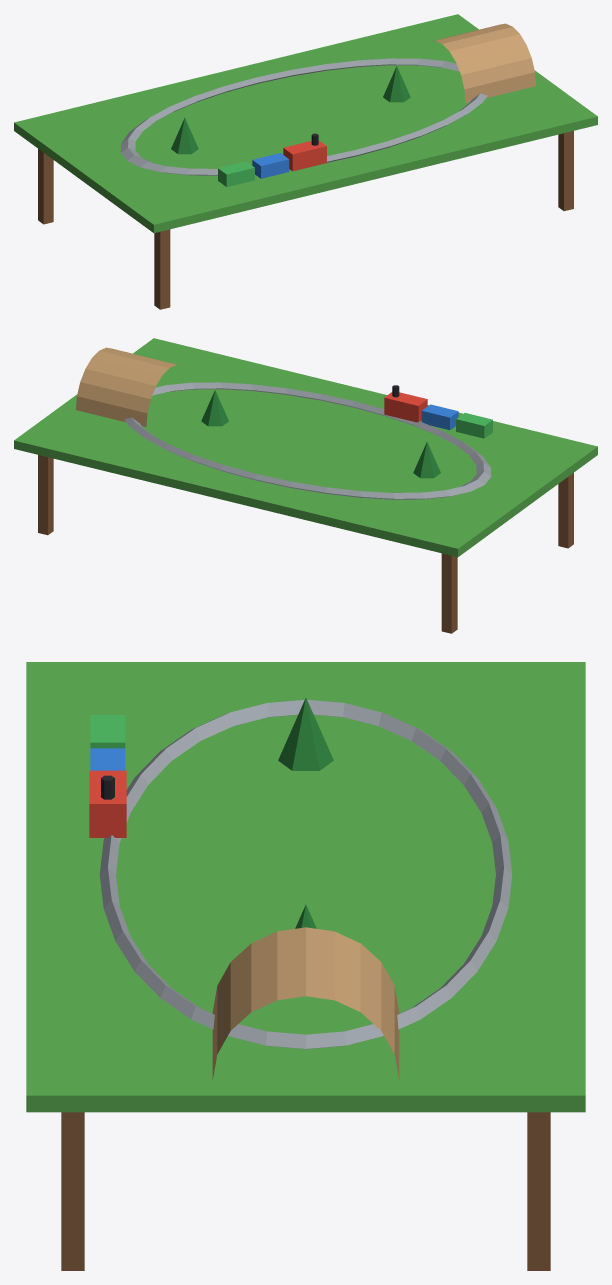
Rendered from train_table.glb.
3 renders of one model, top to bottom at view 1: azimuth 30°, elevation 25°; view 2: azimuth 150°, elevation 25°; view 3: azimuth 270°, elevation 25°, orthographic. The views are drawn at different scales.
Parts seen in each view (by area): view 1: board_table_green, tunnel_tunnel_card, track_rail_steel, legs_table_leg, cars, trees_tree_green (×2), engine_train_red; view 2: board_table_green, track_rail_steel, tunnel_tunnel_card, legs_table_leg, cars, trees_tree_green (×2), engine_train_red; view 3: board_table_green, track_rail_steel, tunnel_tunnel_card, legs_table_leg, engine_train_red, trees_tree_green, cars.
Boxes of the visible parts, x1,y1,x2,y2 form: board_table_green: (14,14,597,233); tunnel_tunnel_card: (432,23,536,102); track_rail_steel: (120,58,487,175); legs_table_leg: (38,131,573,309); cars: (218,153,289,186); trees_tree_green (×2): (171,66,410,154); engine_train_red: (283,140,326,171); board_table_green: (14,338,597,557); track_rail_steel: (124,382,491,499); tunnel_tunnel_card: (75,347,179,426); legs_table_leg: (38,455,573,633); cars: (421,404,492,438); trees_tree_green (×2): (201,390,440,478); engine_train_red: (384,392,427,422); board_table_green: (26,662,585,1112); track_rail_steel: (99,700,512,1049); tunnel_tunnel_card: (212,927,399,1079); legs_table_leg: (61,1112,550,1270); engine_train_red: (89,770,126,837); trees_tree_green: (278,698,333,770); cars: (90,715,125,770).
Bounding box in the file's own units: 4.4 × 1.3 × 2.4.
